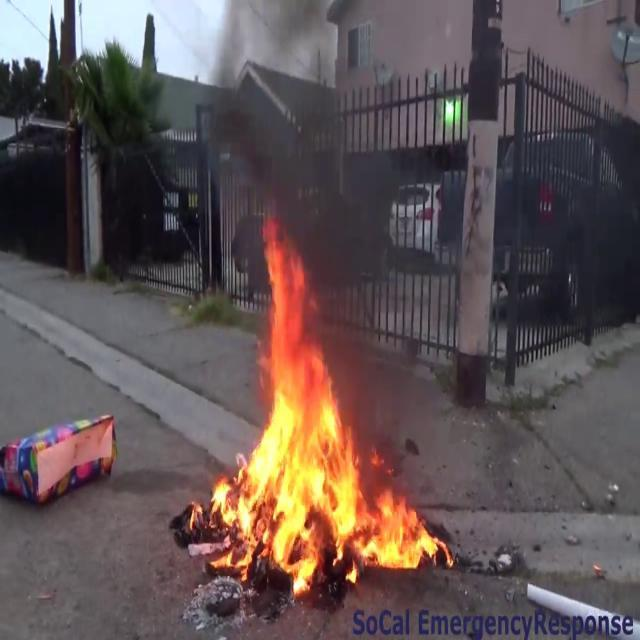Fire: (200, 219, 446, 592)
Smoke: (197, 0, 366, 254)
